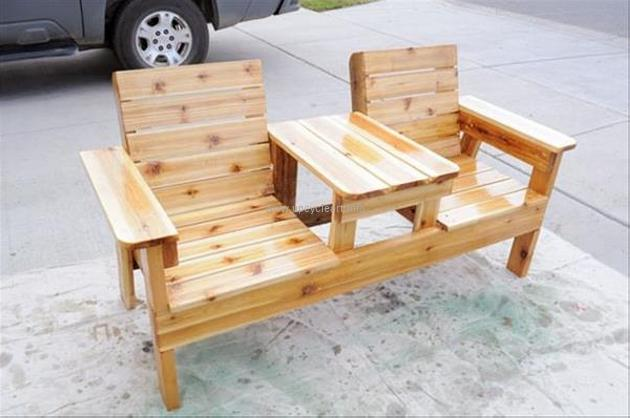chairs: (79, 43, 580, 410)
